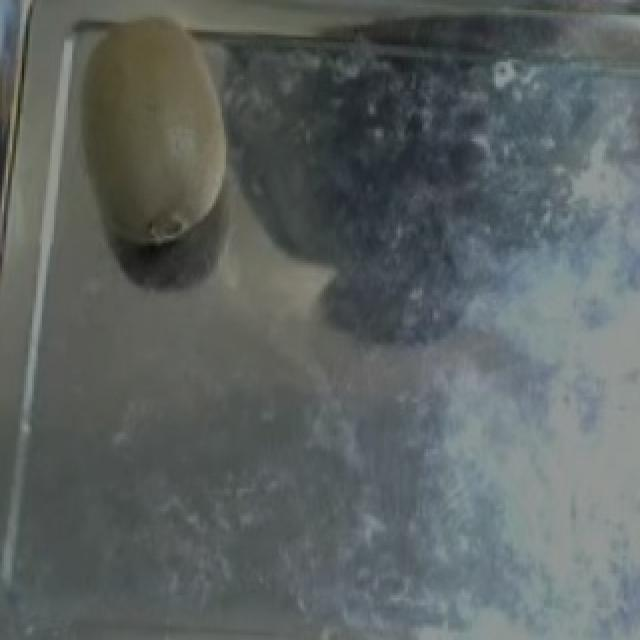Fruit: (34, 0, 244, 268)
